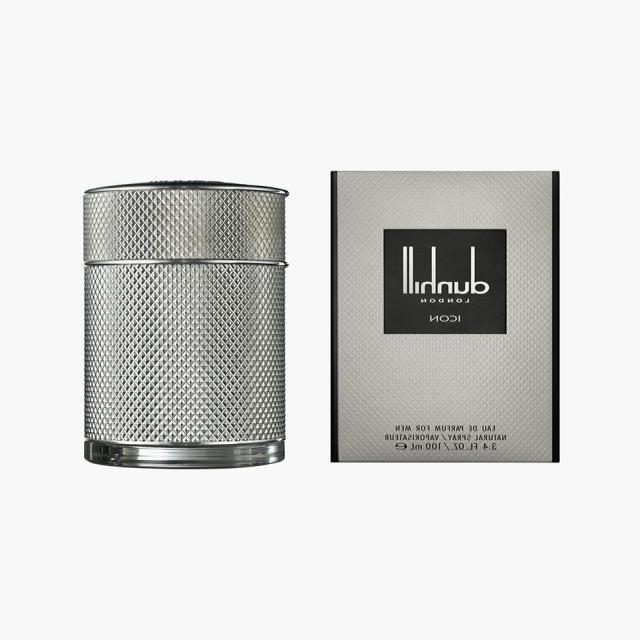dunhill: (327, 168, 564, 464)
